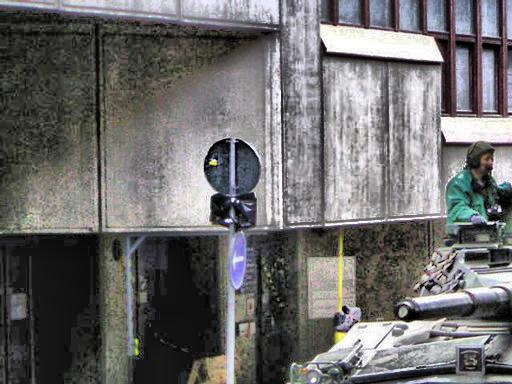tanks: (289, 243, 512, 384)
